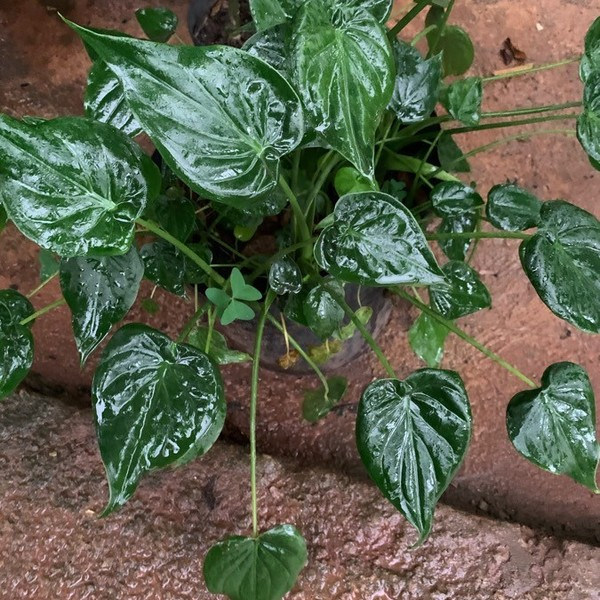obstacle: (0, 9, 530, 556)
